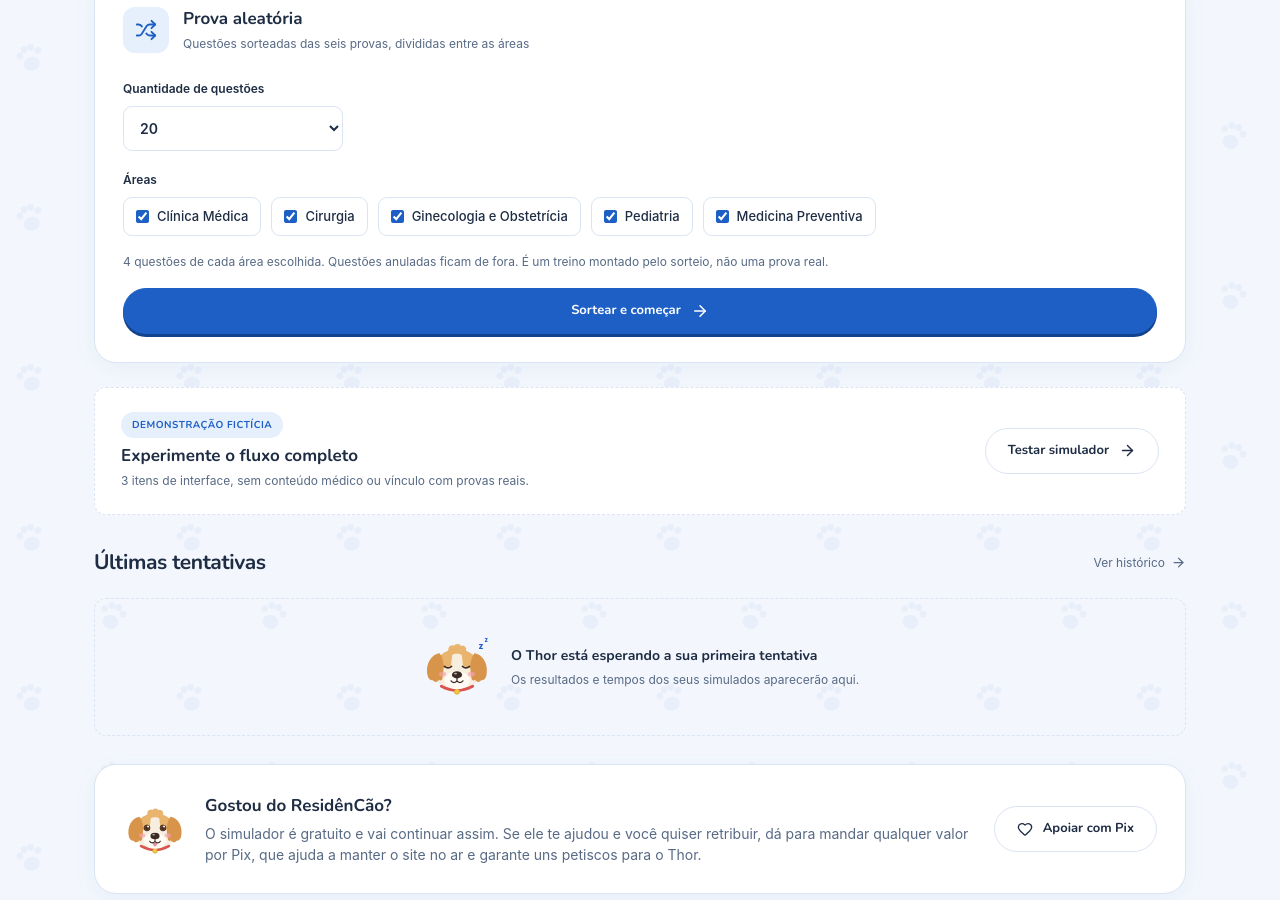
Scenario: Tela de prova › pede confirmação e permite continuar respondendo
(page scrolled)
What coordinates should you click on to do the following:
click the button "Testar simulador"
I would click on:
 (1072, 451)
Its box is [985, 428, 1159, 474].
(page scrolled)
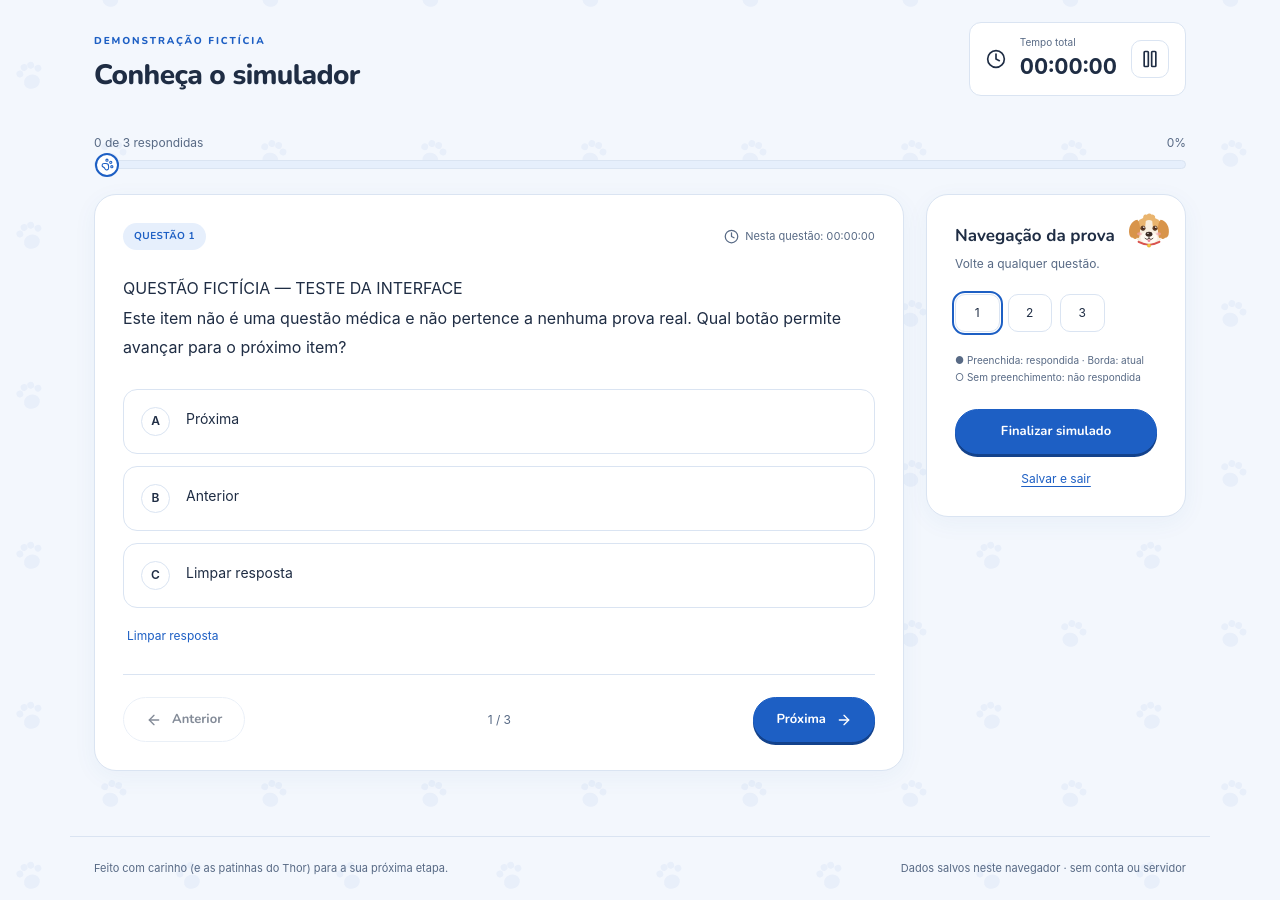
expect the heading "Conheça o simulador" is shown: met, box [94, 59, 360, 92]
What coordinates should you click on to do the following:
click the button "Finalizar simulado"
I would click on:
 (1056, 432)
Its box is [955, 409, 1157, 454].
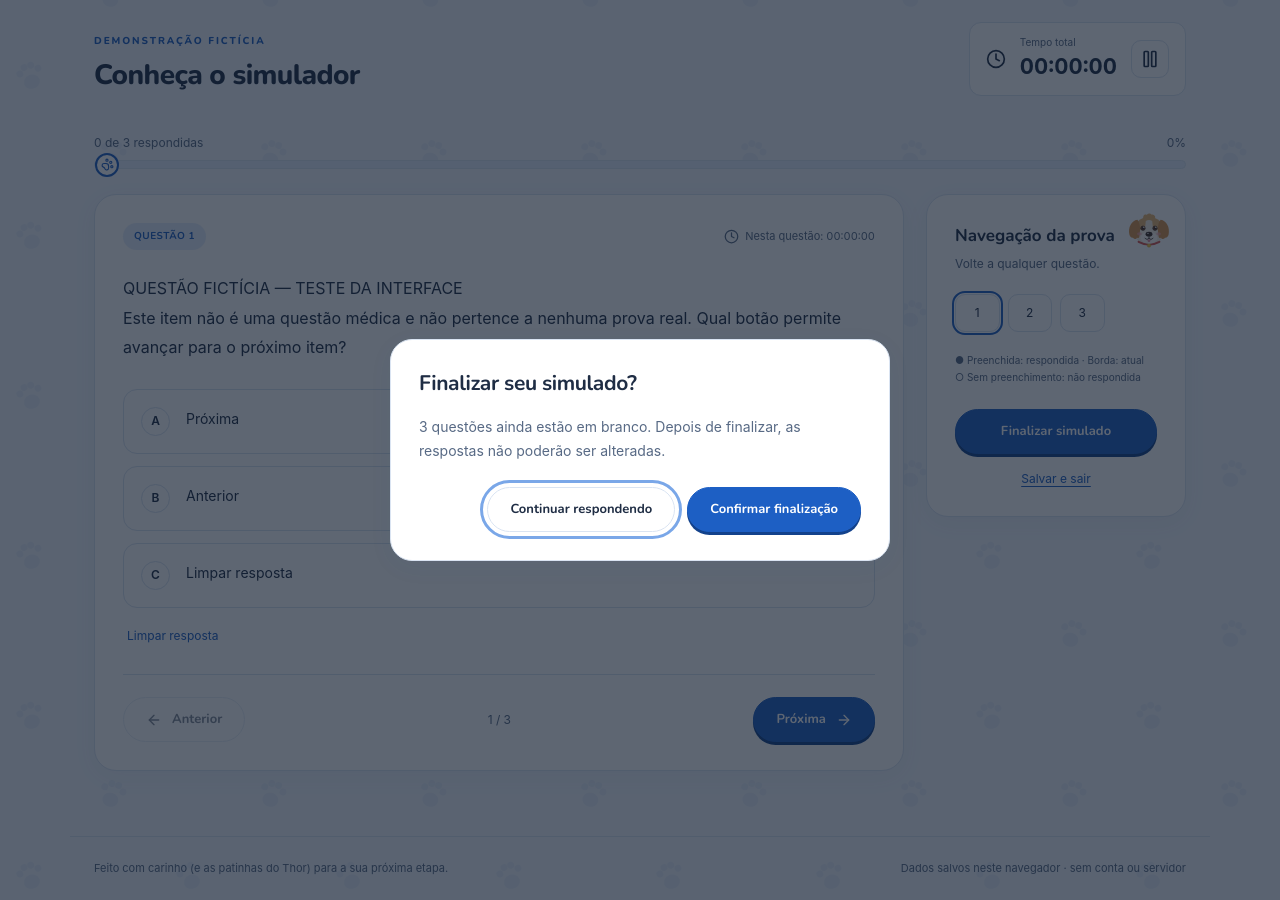
expect the text "3 questões ainda estão em branco" is shown: met, box [419, 418, 651, 435]
What coordinates should you click on to do the following:
click the button "Continuar respondendo"
I would click on:
 (581, 510)
Its box is [487, 487, 675, 532].
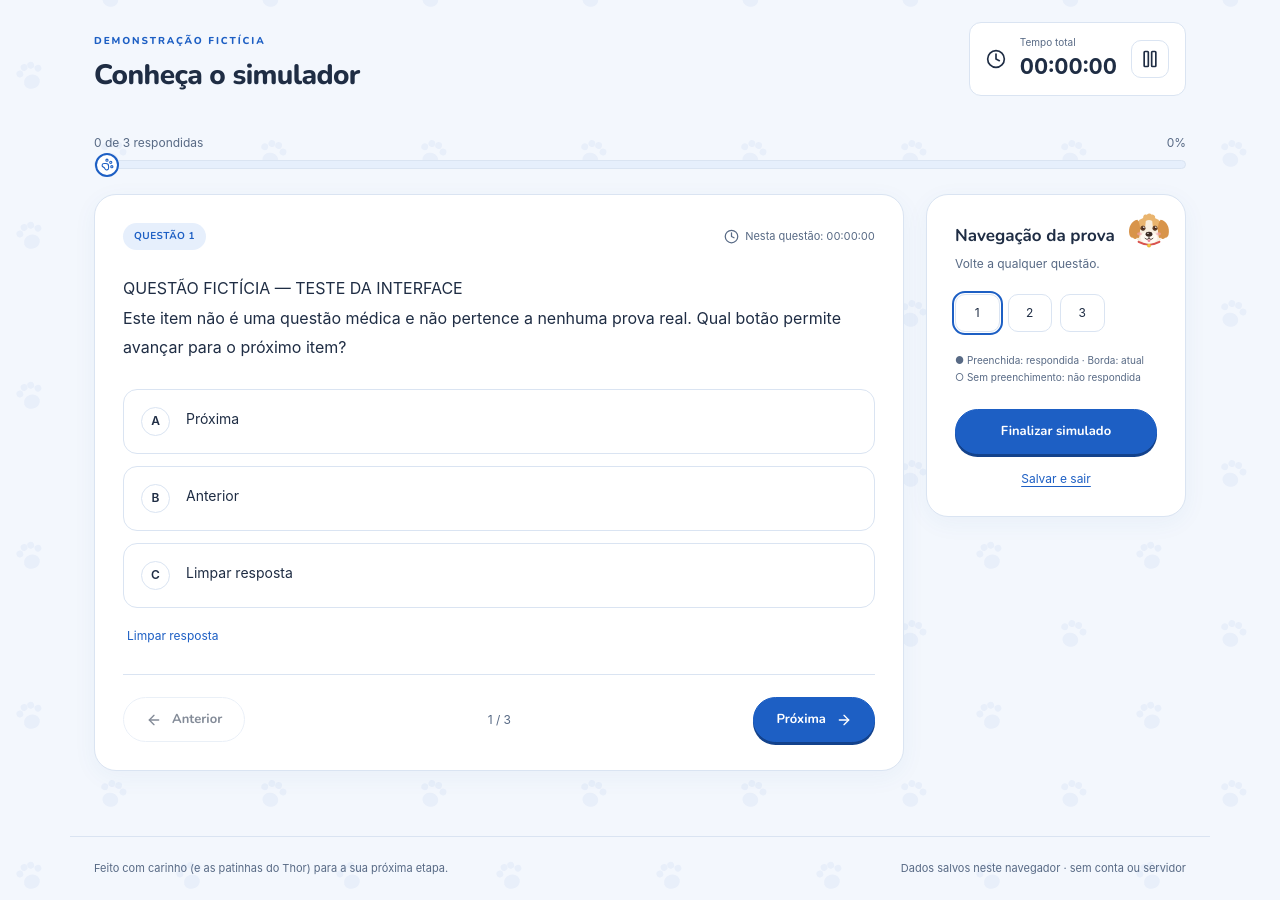
expect the text "QUESTÃO 1" is shown: met, box [123, 223, 206, 250]
expect the dialog is gone: met
